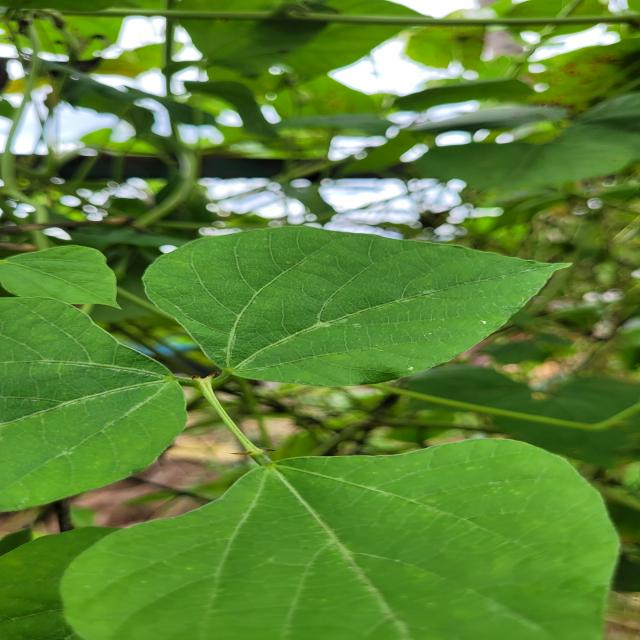Dolicos bean_healthy: (57, 427, 619, 640), (139, 222, 594, 386), (0, 291, 172, 504)
